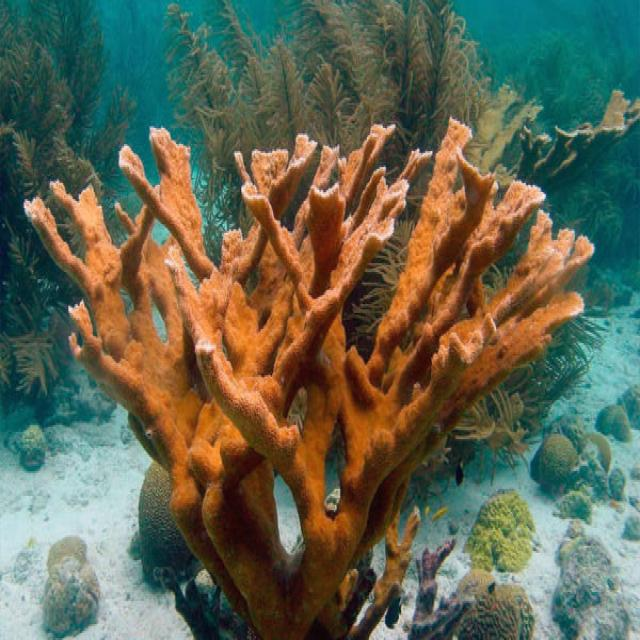Coral: (23, 113, 595, 640), (138, 459, 204, 594), (462, 490, 538, 574), (454, 569, 537, 640)
